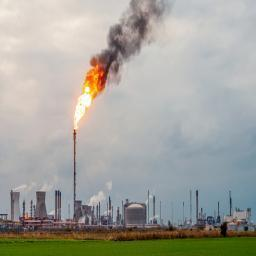fire: (74, 64, 105, 129)
smoke: (90, 0, 171, 88)
